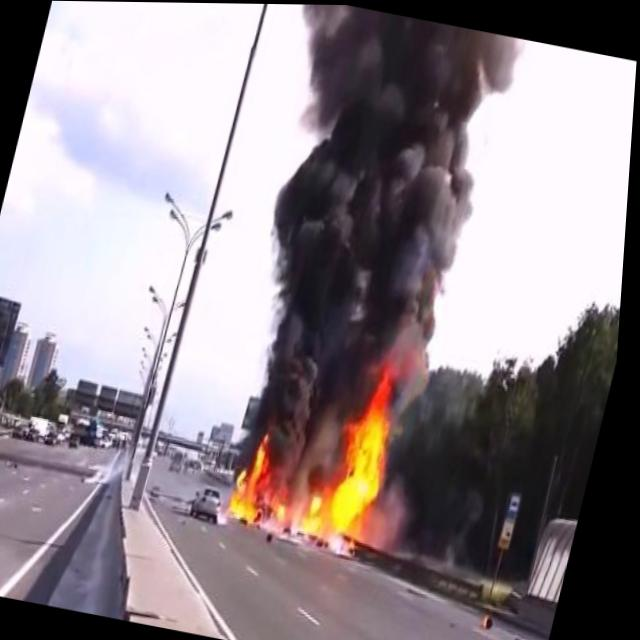fire: (224, 342, 424, 559)
